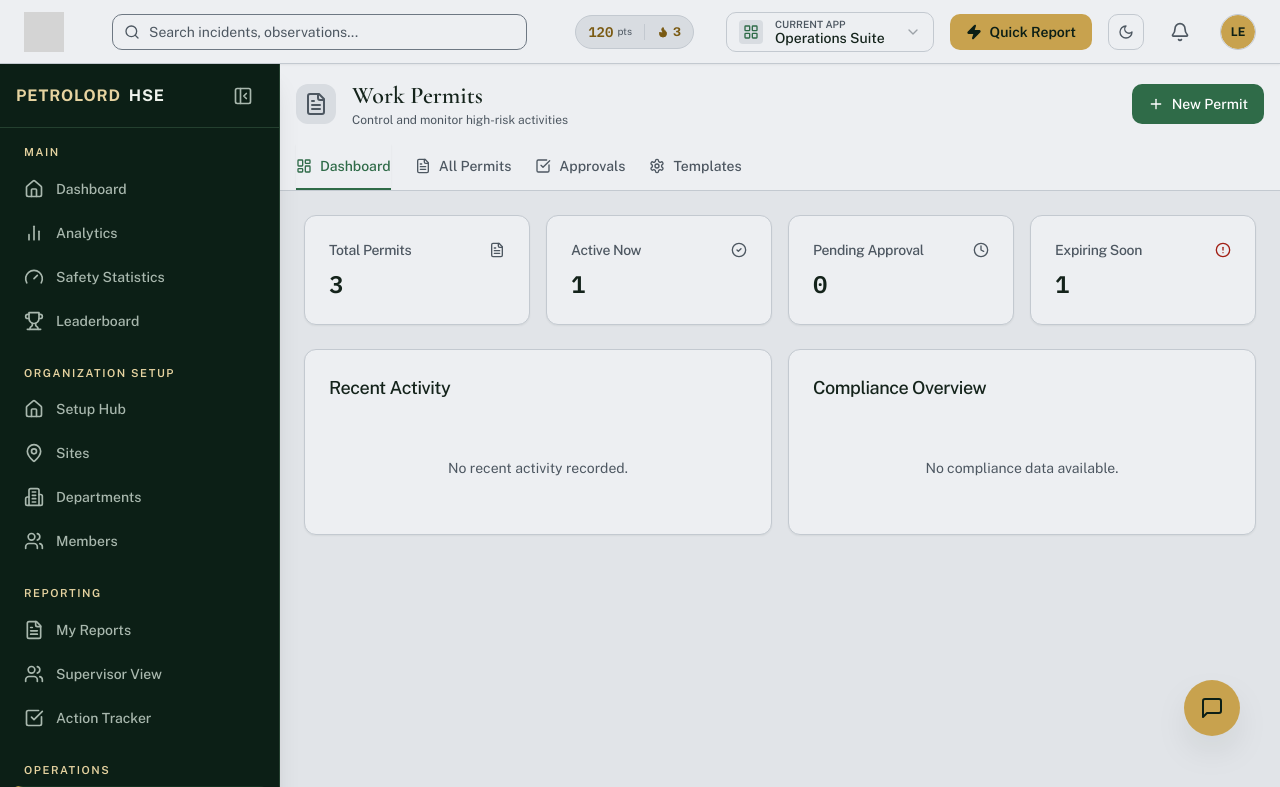
Scenario: Work Permits › further states › walks the three step create form and its validation alert on roles
The image size is (1280, 787).
Expected: the heading "Expiring Soon" is shown, x1=1055 y1=240 x2=1142 y2=260
Click the button "New Permit".
click(1198, 104)  # box x1=1132 y1=84 x2=1264 y2=124
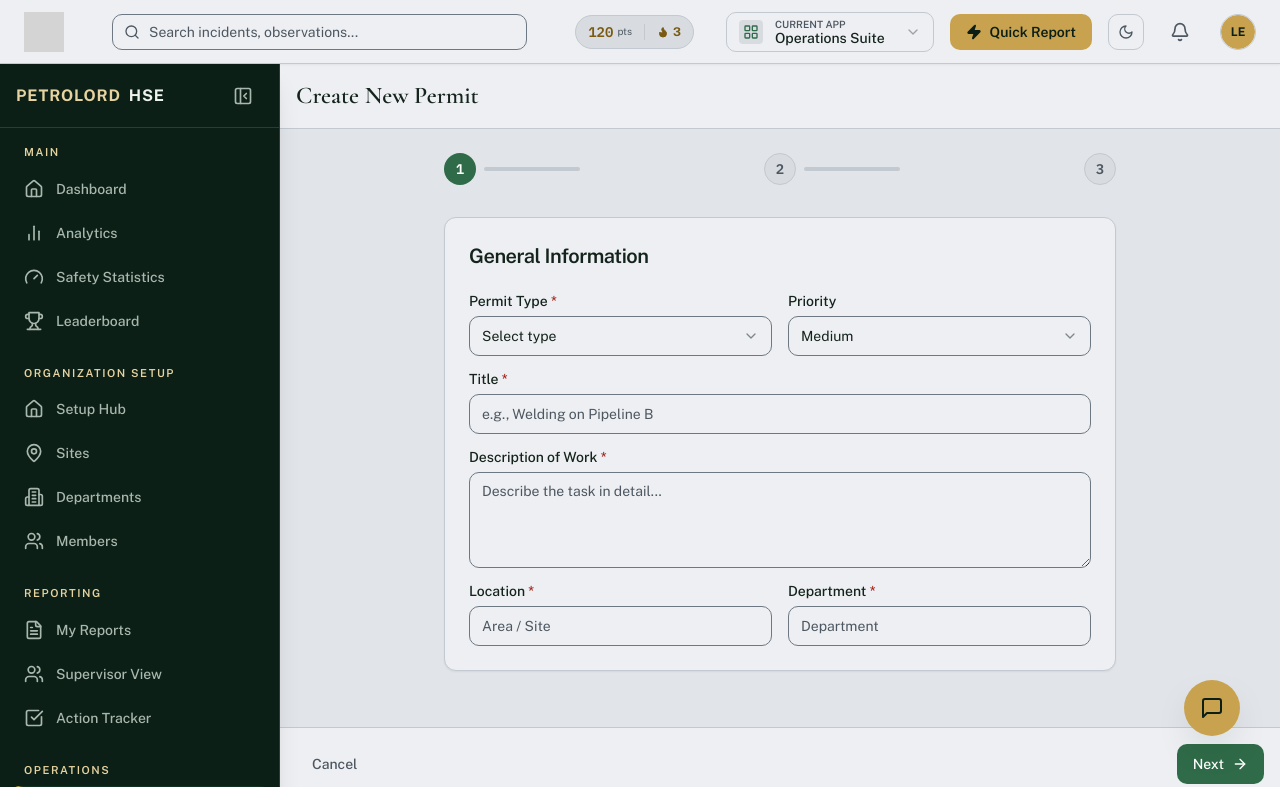
Expected: the heading "Create New Permit" is shown, x1=296 y1=81 x2=479 y2=110
Expected: the heading "General Information" is shown, x1=469 y1=244 x2=648 y2=268
Click the button "Next".
click(1220, 764)  # box x1=1177 y1=744 x2=1264 y2=784
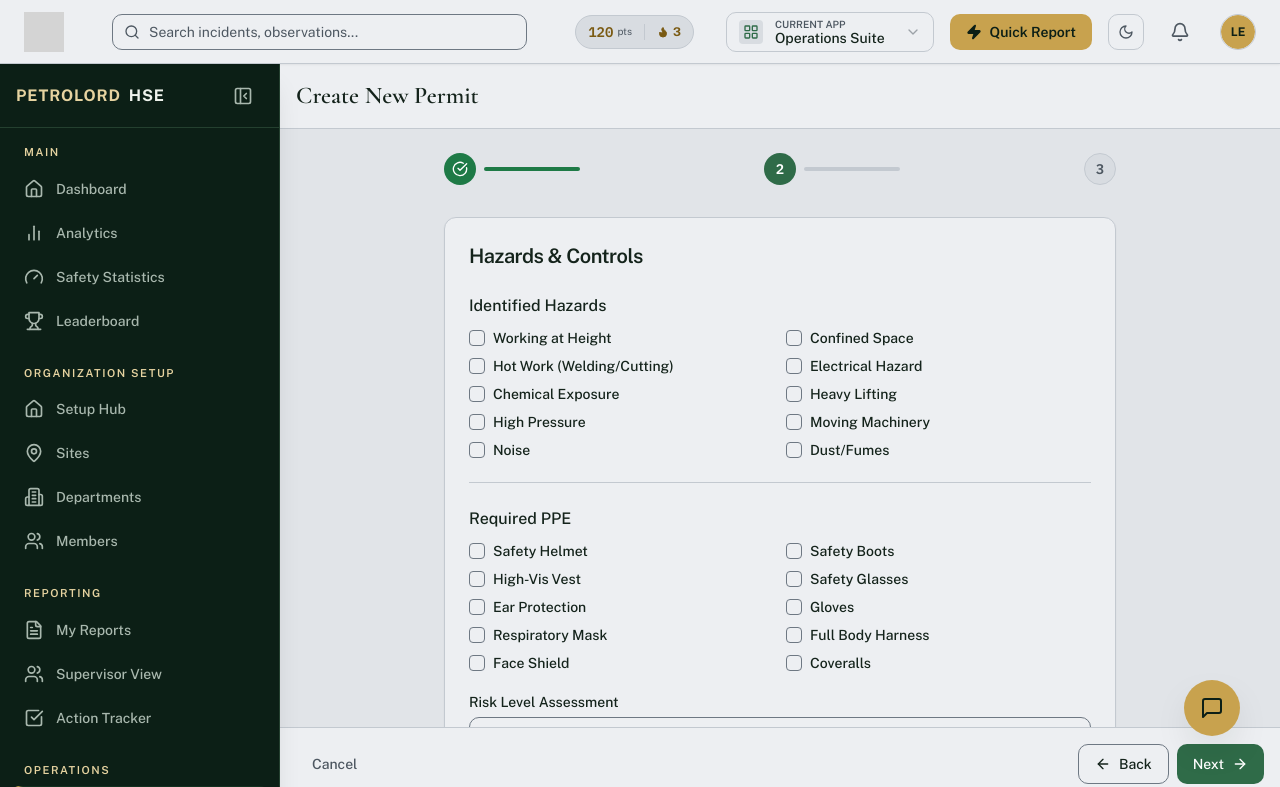
Expected: the heading "Hazards & Controls" is shown, x1=469 y1=244 x2=643 y2=268
Click the checkbox named "Confined Space" next to "Confined Space".
click(794, 338)  # box x1=786 y1=330 x2=802 y2=346
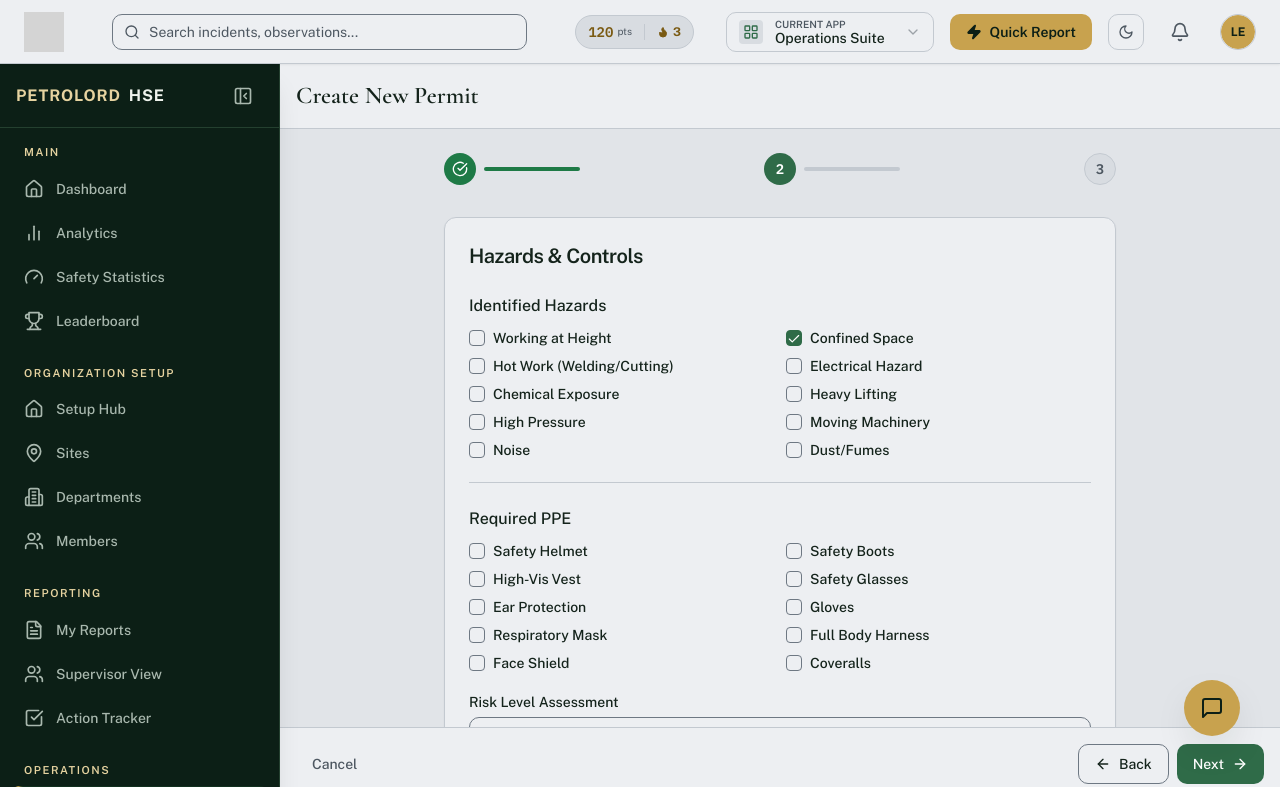
Click the button "Next".
click(1220, 764)  # box x1=1177 y1=744 x2=1264 y2=784
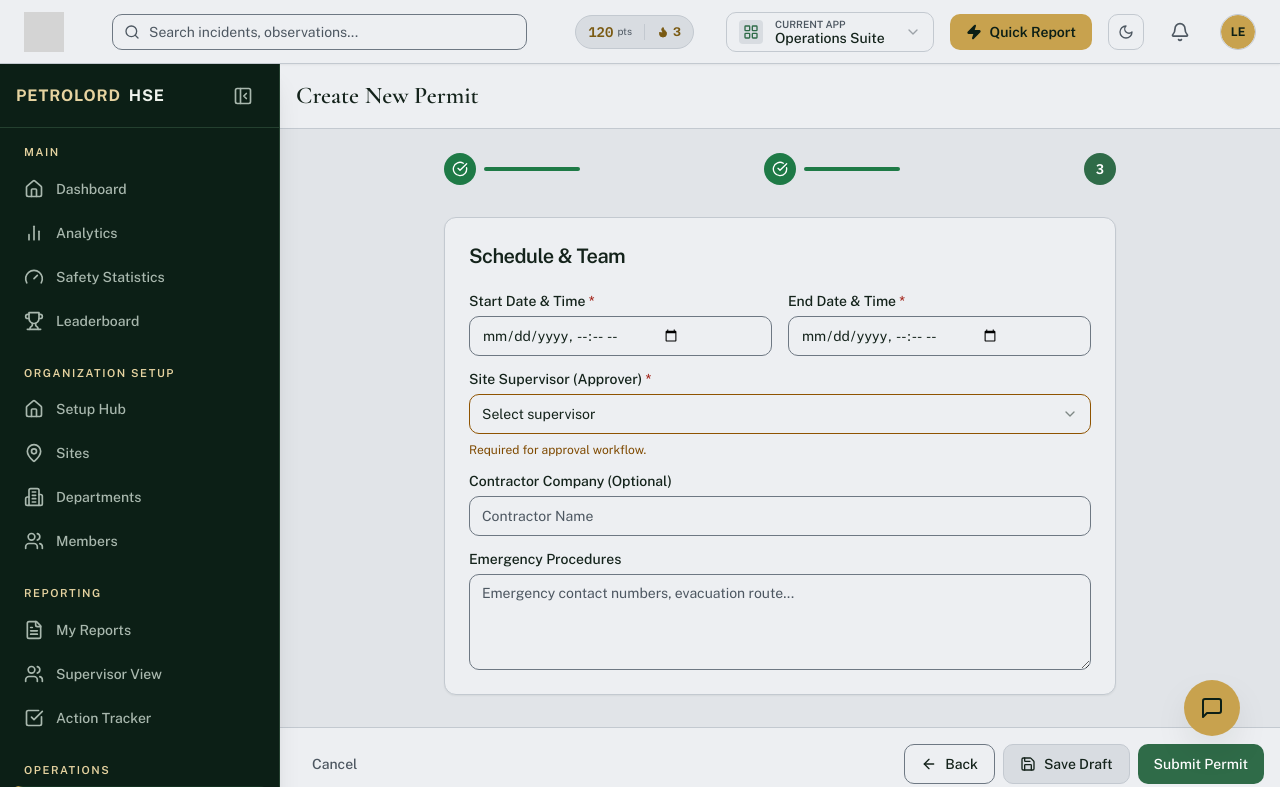
Expected: the heading "Schedule & Team" is shown, x1=469 y1=244 x2=625 y2=268
Click the button "Submit Permit".
click(1201, 764)  # box x1=1138 y1=744 x2=1264 y2=784
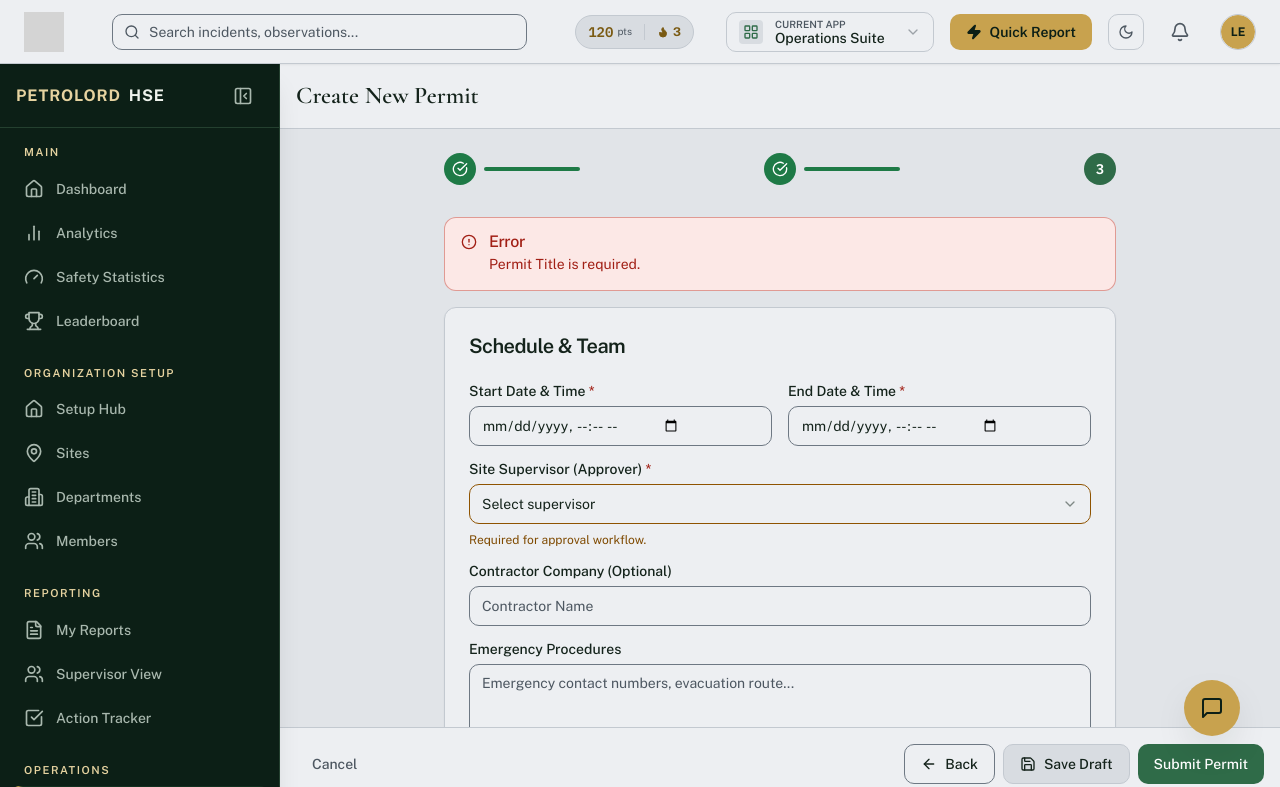
Expected: the text "Permit Title is required." is shown, x1=489 y1=256 x2=640 y2=272
